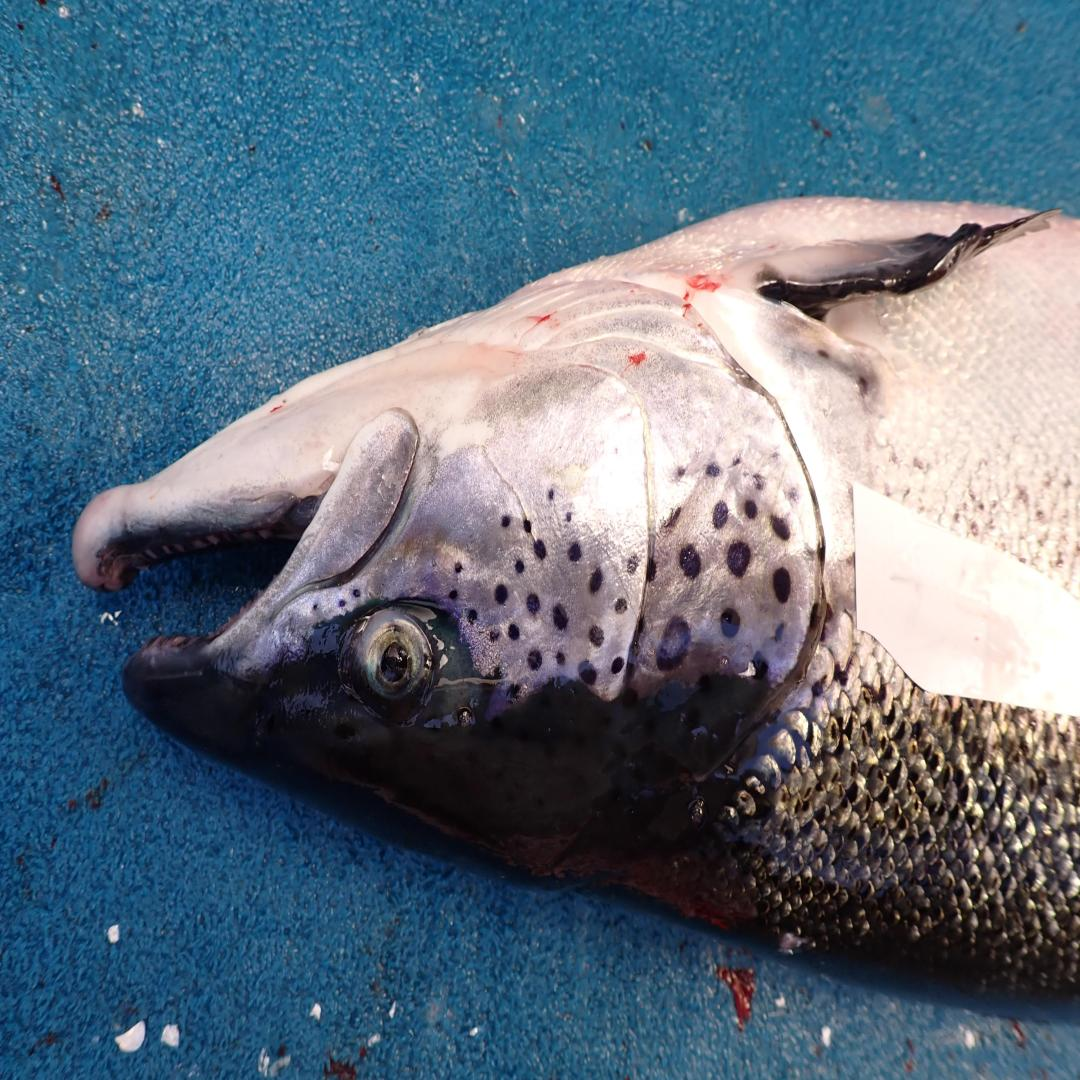spot: (656, 616, 690, 669), (728, 543, 751, 577), (772, 568, 791, 605), (679, 546, 700, 579), (721, 608, 740, 638), (751, 652, 768, 681), (578, 661, 597, 686), (660, 507, 681, 529), (713, 501, 728, 529), (772, 518, 791, 540), (553, 605, 567, 630), (589, 568, 603, 593), (810, 602, 822, 631), (589, 624, 603, 647), (645, 554, 656, 582), (527, 650, 542, 669), (567, 543, 582, 562), (494, 585, 508, 605), (527, 593, 540, 613), (673, 464, 688, 481), (508, 684, 521, 703), (612, 655, 624, 675), (534, 540, 546, 560), (745, 501, 757, 520), (786, 488, 800, 504), (489, 624, 502, 641), (816, 539, 825, 563), (774, 622, 785, 641), (466, 608, 479, 624), (614, 596, 626, 613), (626, 557, 637, 574), (754, 473, 765, 489), (555, 650, 565, 667), (707, 464, 719, 478), (508, 624, 519, 638), (491, 667, 502, 681), (348, 588, 361, 599), (515, 560, 525, 574), (523, 518, 532, 532), (447, 588, 458, 599), (502, 515, 510, 529), (732, 453, 740, 467), (454, 562, 462, 574), (547, 488, 554, 501), (310, 602, 319, 610), (771, 451, 778, 460), (565, 512, 571, 522), (338, 599, 345, 606)
